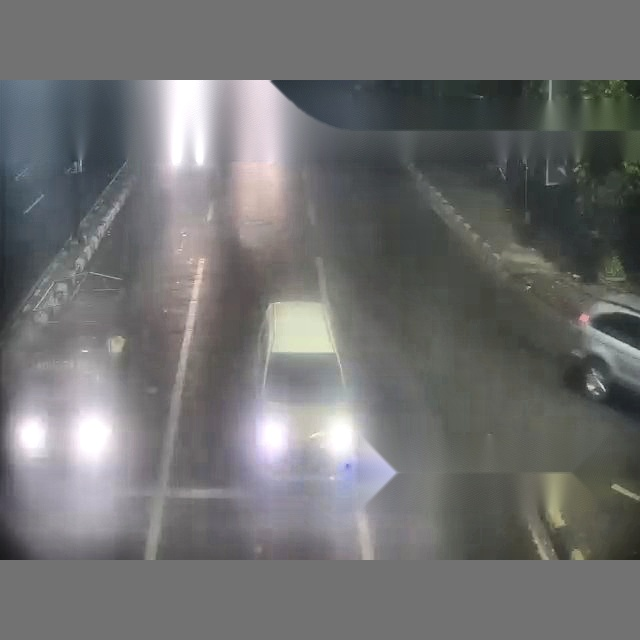Mobil: (574, 299, 640, 401)
